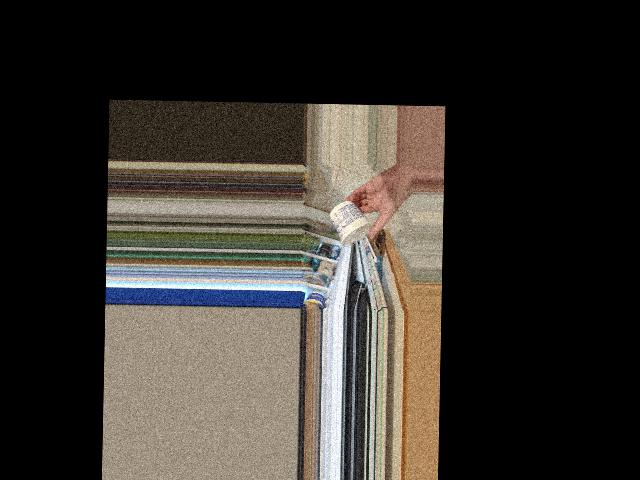cotage: (333, 198, 377, 244)
